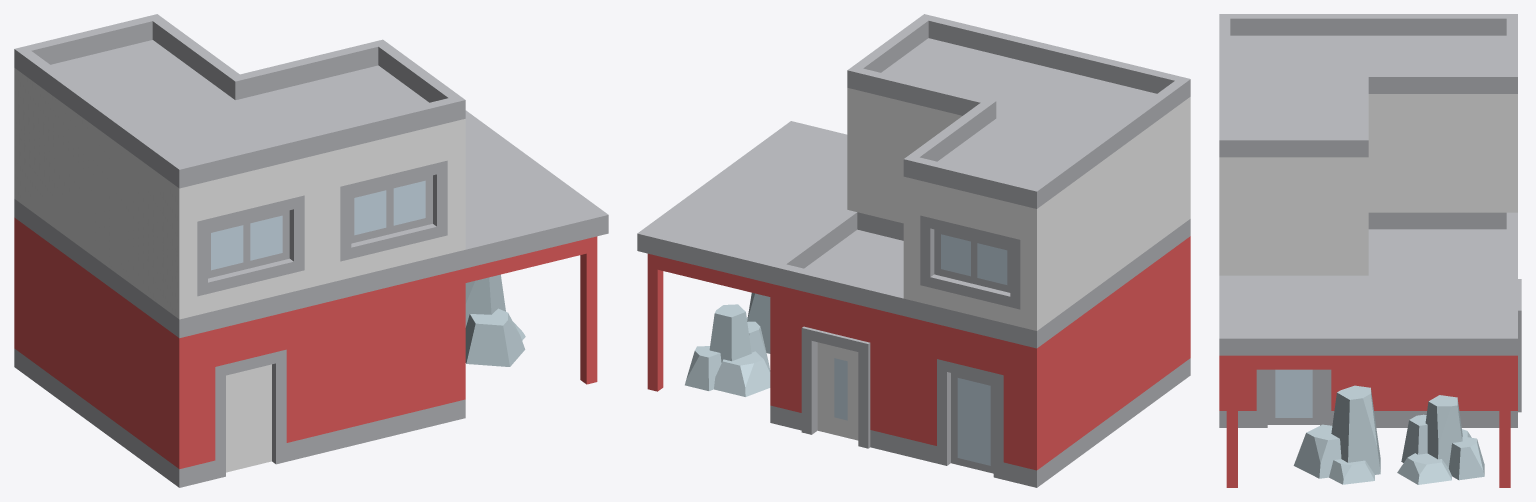
Rendered from Mine.fbx.
3 renders of one model, left to right at view 1: azimuth 30°, elevation 25°; view 2: azimuth 150°, elevation 25°; view 3: azimuth 270°, elevation 25°, orthographic. The views are drawn at different scales.
Parts seen in each view (by area): view 1: house_type19, rockSmall; view 2: house_type19, rockLarge, rockSmall; view 3: house_type19, rockSmall, rockLarge.
Boxes of the visible parts, x1,y1,x2,y2 form: house_type19: [14, 14, 608, 487]; rockSmall: [465, 274, 525, 366]; house_type19: [637, 14, 1190, 487]; rockLarge: [685, 304, 770, 396]; rockSmall: [747, 292, 770, 353]; house_type19: [1219, 14, 1521, 487]; rockSmall: [1293, 385, 1380, 484]; rockLarge: [1397, 395, 1484, 484].
Bounding box in the file's own units: 120 × 85 × 81.
